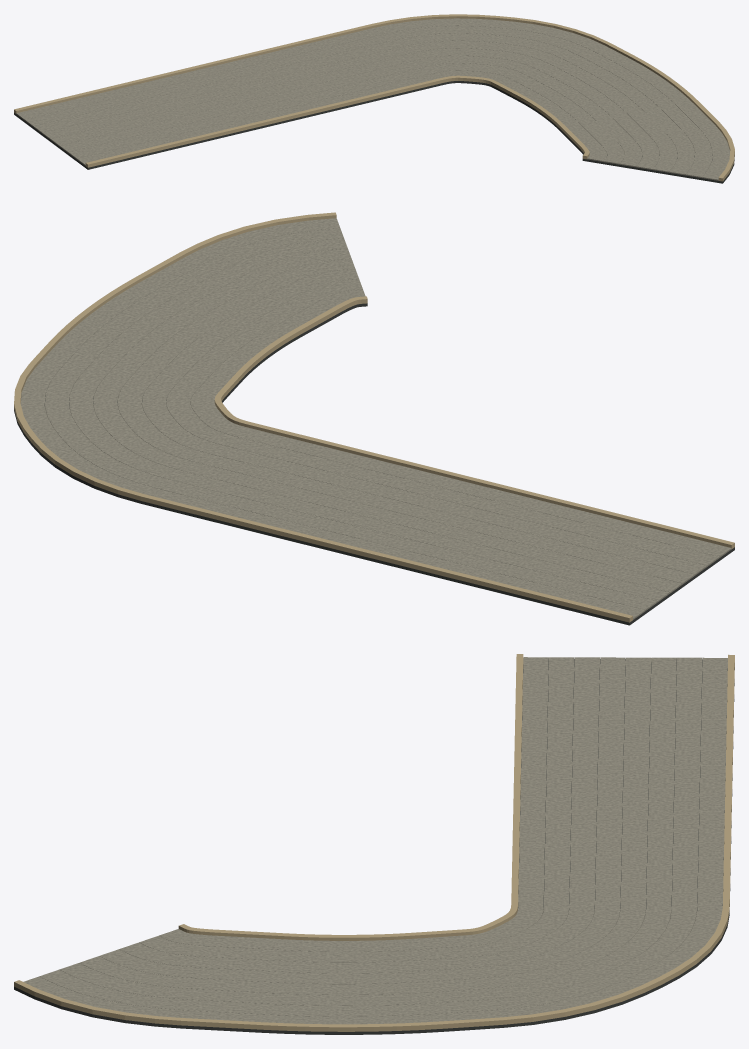
Rendered from track_main_19.fbx.
3 views of the same model, one above another, from view 1: azimuth 30°, elevation 25°; view 2: azimuth 150°, elevation 25°; view 3: azimuth 270°, elevation 25° (orthographic). The views are drawn at different scales.
Parts seen in each view (by area): view 1: roman_concrete.001, travertine.001, basalt.001; view 2: roman_concrete.001, travertine.001, basalt.001; view 3: roman_concrete.001, travertine.001, basalt.001.
Boxes of the visible parts, x1,y1,x2,y2 form: roman_concrete.001: (16,18,729,180); travertine.001: (14,14,734,181); basalt.001: (14,81,734,183); roman_concrete.001: (20,218,731,619); travertine.001: (14,212,734,622); basalt.001: (14,303,734,625); roman_concrete.001: (23,657,727,1024); travertine.001: (14,654,734,1031); basalt.001: (14,659,734,1034).
Size of the model in its own units: 413943 by 337969 by 4000.
